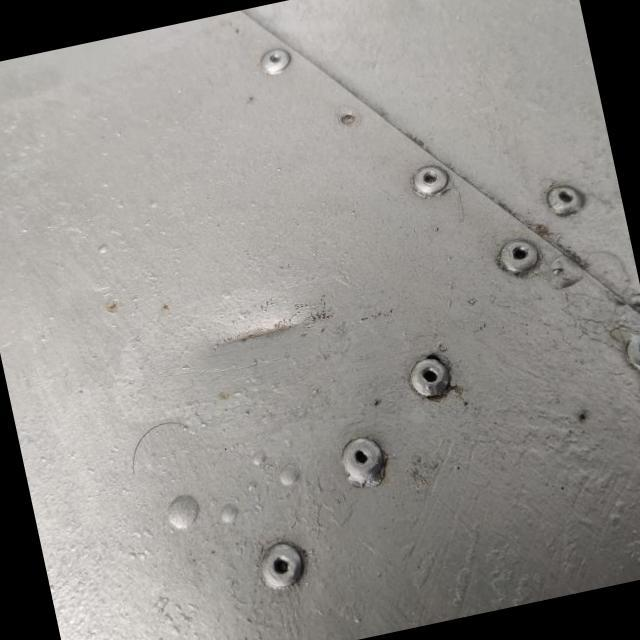Dent: (180, 234, 370, 402)
